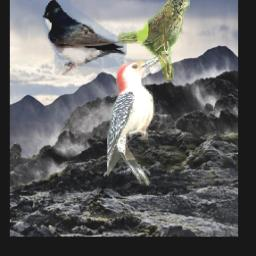Sparrow: (117, 0, 189, 83)
Swallow: (43, 0, 127, 75)
Woodpecker: (107, 55, 164, 186)
